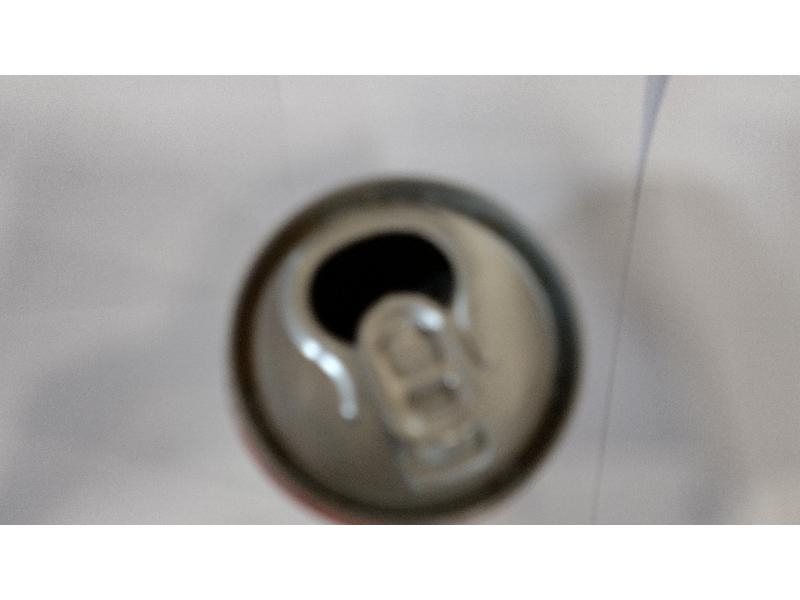can: (203, 168, 592, 517)
